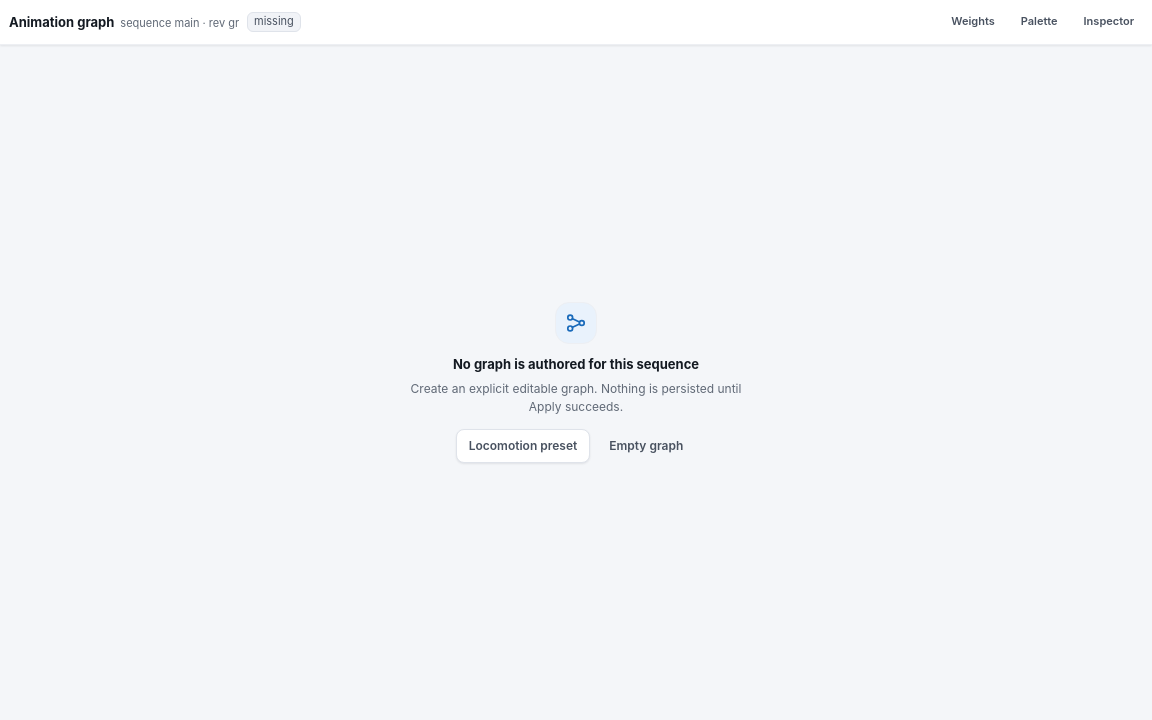
it: an asynchronously compiling Apply refreshes to ready without a remount
Click the button with test id "animation-graph-locomotion-preset" at x=523, y=446, box [456, 429, 590, 463]
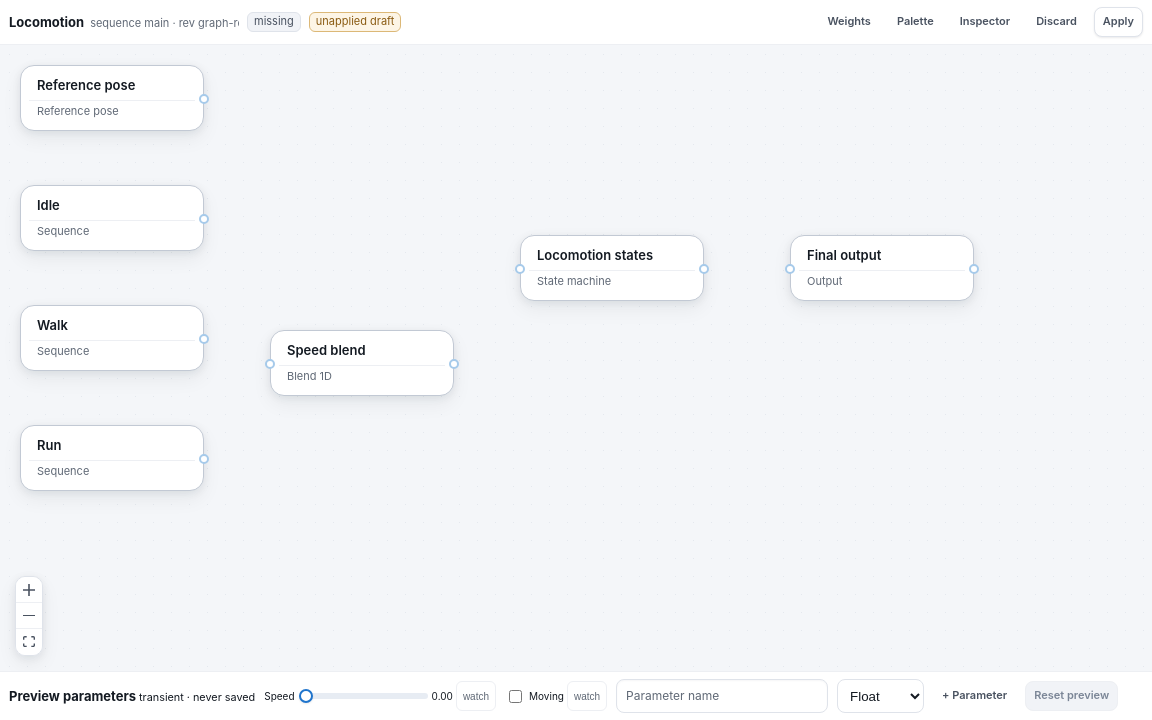
Click the button with test id "animation-graph-apply" at x=1118, y=22, box [1094, 7, 1143, 37]
Wait 1200 ms
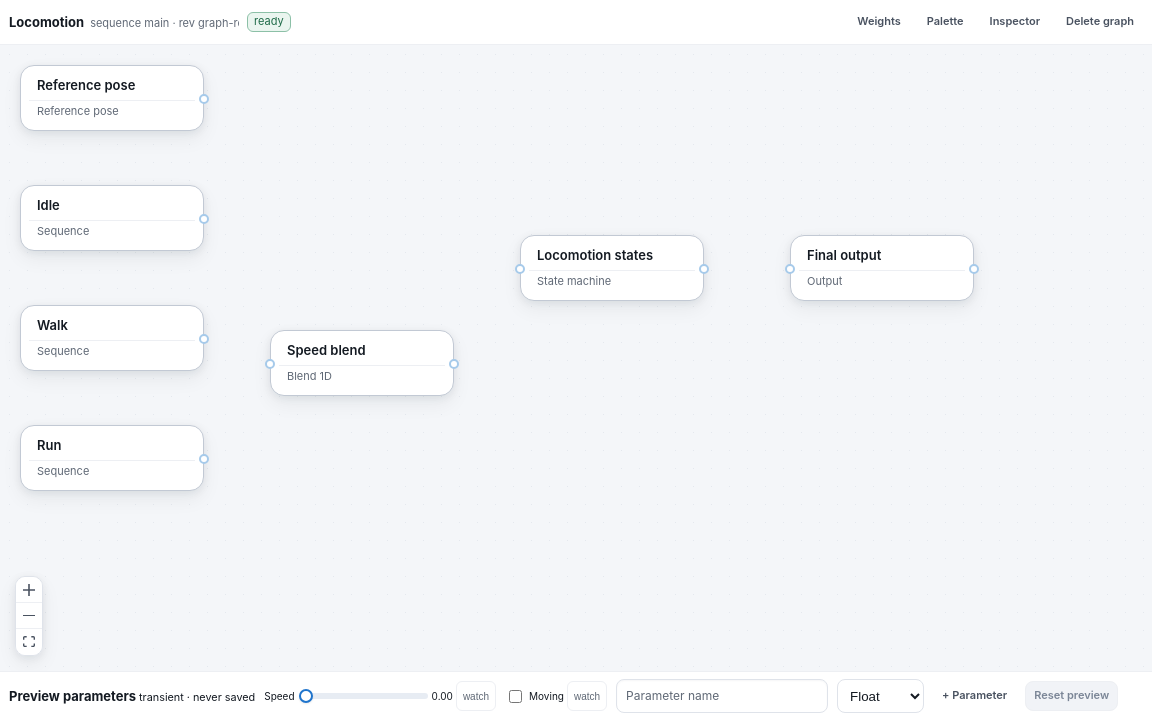
Check: the text "ready" is shown, box [247, 12, 291, 32]
